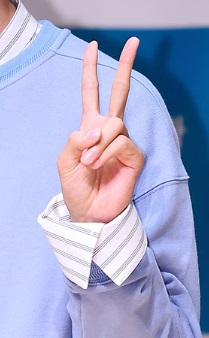peace: (57, 37, 146, 219)
